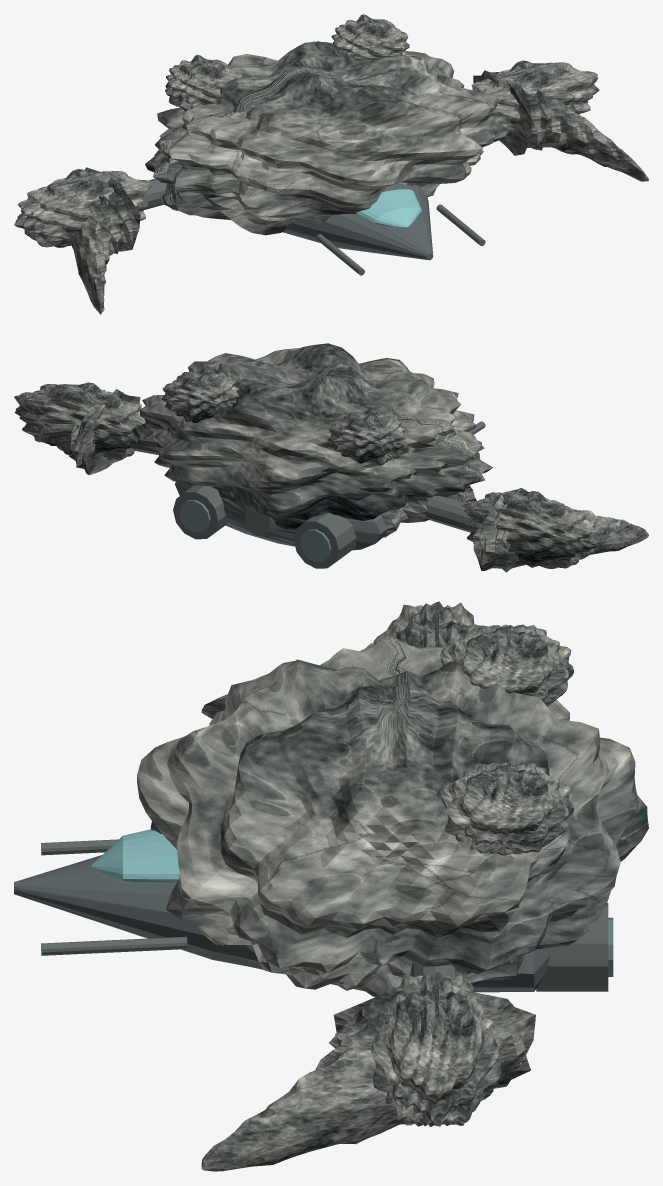
The model's file is feist_gray_off.glb.
The picture shows the model from 3 angles, top to bottom: view 1: azimuth 30°, elevation 25°; view 2: azimuth 150°, elevation 25°; view 3: azimuth 270°, elevation 25°; orthographic projection. The views are drawn at different scales.
Parts seen in each view (by area): view 1: rock_main_1, claw_13, wing_root_5, hull_2, claw_6, wing_root_12, upper_shield_7, upper_shield_14, cockpit_3, hinge_4, gun_15, gun_8; view 2: rock_main_1, wing_root_5, wing_root_12, claw_6, upper_shield_7, upper_shield_14, hull_2, engine_9, claw_13, engine_16, hinge_4, nozzle_10 (+1 smaller); view 3: rock_main_1, claw_13, wing_root_12, hull_2, upper_shield_14, upper_shield_7, engine_16, cockpit_3, wing_root_5, gun_15, gun_8.
Part boxes in pixels (x1=…): rock_main_1: x1=145, y1=41, x2=509, y2=235; claw_13: x1=473, y1=70, x2=648, y2=181; wing_root_5: x1=14, y1=169, x2=152, y2=247; hull_2: x1=283, y1=183, x2=433, y2=260; claw_6: x1=70, y1=167, x2=140, y2=314; wing_root_12: x1=471, y1=60, x2=599, y2=139; upper_shield_7: x1=165, y1=54, x2=242, y2=108; upper_shield_14: x1=331, y1=14, x2=409, y2=58; cockpit_3: x1=356, y1=189, x2=421, y2=227; hinge_4: x1=142, y1=178, x2=167, y2=210; gun_15: x1=436, y1=204, x2=485, y2=245; gun_8: x1=316, y1=234, x2=364, y2=275; rock_main_1: x1=131, y1=343, x2=492, y2=537; wing_root_5: x1=460, y1=491, x2=599, y2=568; wing_root_12: x1=14, y1=382, x2=145, y2=460; claw_6: x1=473, y1=488, x2=648, y2=572; upper_shield_7: x1=327, y1=407, x2=406, y2=465; upper_shield_14: x1=161, y1=367, x2=239, y2=422; hull_2: x1=175, y1=482, x2=387, y2=550; engine_9: x1=293, y1=513, x2=356, y2=568; claw_13: x1=68, y1=389, x2=140, y2=475; engine_16: x1=173, y1=485, x2=227, y2=539; hinge_4: x1=425, y1=496, x2=471, y2=532; nozzle_10: x1=299, y1=529, x2=331, y2=561; rock_main_1: x1=137, y1=636, x2=648, y2=996; claw_13: x1=201, y1=981, x2=535, y2=1171; wing_root_12: x1=371, y1=972, x2=501, y2=1127; hull_2: x1=14, y1=855, x2=550, y2=992; upper_shield_14: x1=440, y1=762, x2=573, y2=855; upper_shield_7: x1=440, y1=624, x2=573, y2=706; engine_16: x1=536, y1=903, x2=608, y2=991; cockpit_3: x1=91, y1=829, x2=179, y2=882; wing_root_5: x1=373, y1=601, x2=477, y2=648; gun_15: x1=41, y1=936, x2=187, y2=955; gun_8: x1=41, y1=839, x2=118, y2=855.
Size of the model in its own units: 4.66 by 1.14 by 2.56.
Materials: 1 (1 with a texture image).
